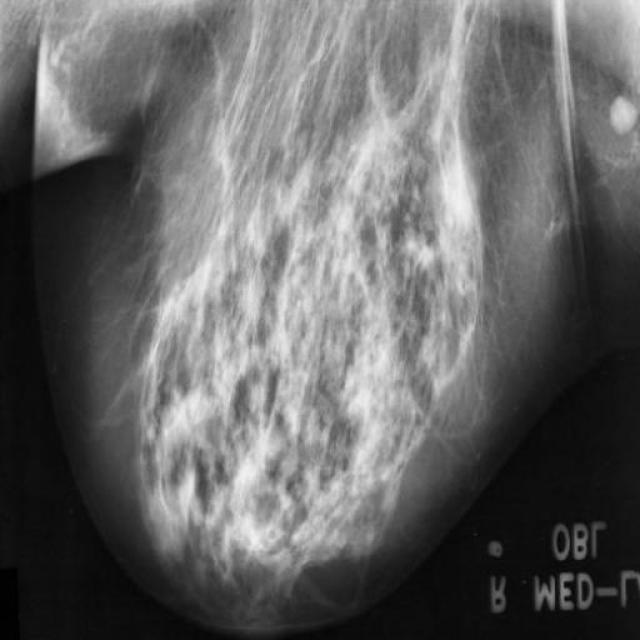cancer: (322, 324, 394, 460)
